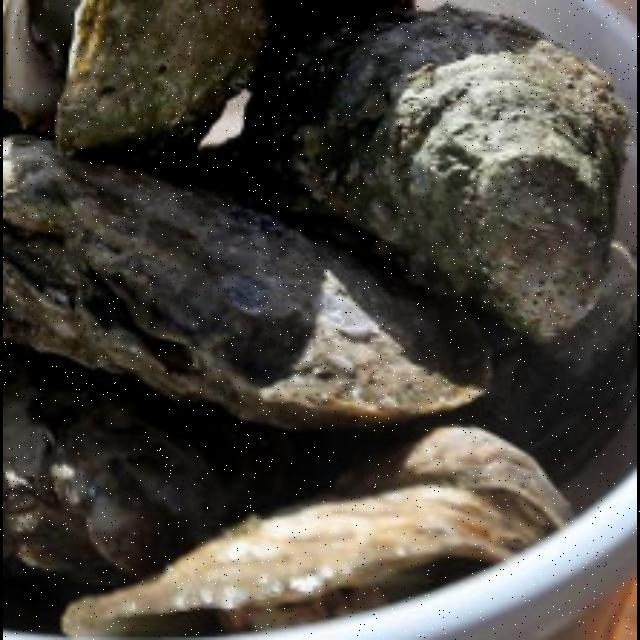Oyster-Closed: (57, 433, 575, 637), (317, 6, 628, 334), (3, 344, 286, 582), (446, 242, 634, 488), (239, 0, 413, 191)
Oyster-Open: (3, 135, 493, 424), (3, 0, 268, 156)
